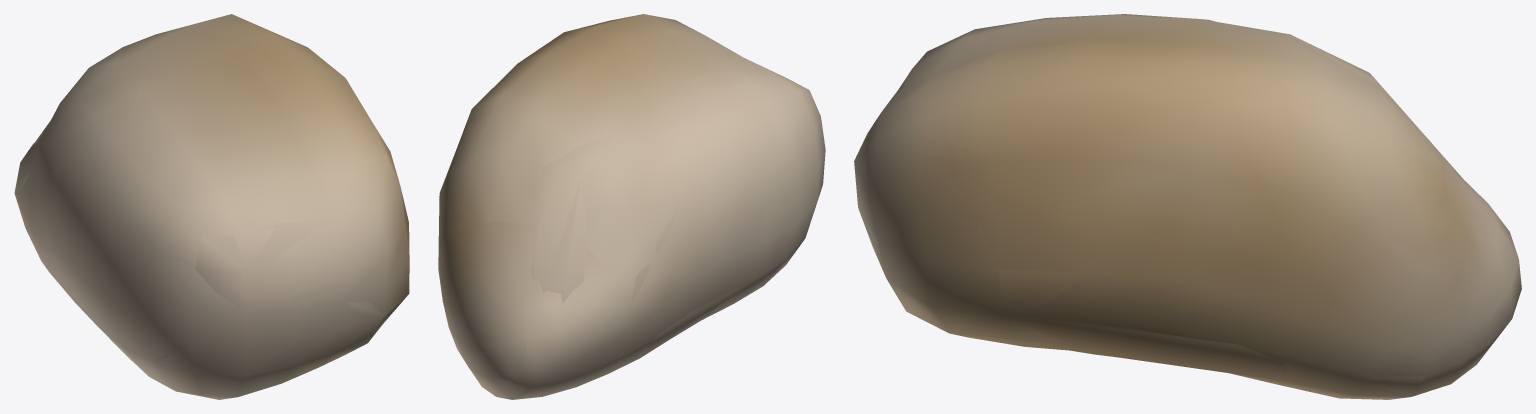
File: R carpi ulnare.fbx
3 views of the same model, side by side, from view 1: azimuth 30°, elevation 25°; view 2: azimuth 150°, elevation 25°; view 3: azimuth 270°, elevation 25° (orthographic). The views are drawn at different scales.
Visible parts, largest first — view 1: R carpi ulnare, R carpi ulnare low; view 2: R carpi ulnare, R carpi ulnare low; view 3: R carpi ulnare, R carpi ulnare low.
Part boxes in pixels (x1,y1,x2,y2): R carpi ulnare: (14,14,409,399); R carpi ulnare low: (17,47,406,360); R carpi ulnare: (438,14,825,399); R carpi ulnare low: (458,48,820,386); R carpi ulnare: (854,14,1521,399); R carpi ulnare low: (859,14,1465,397).
Size of the model in its own units: 2.41 by 2.33 by 4.01.
